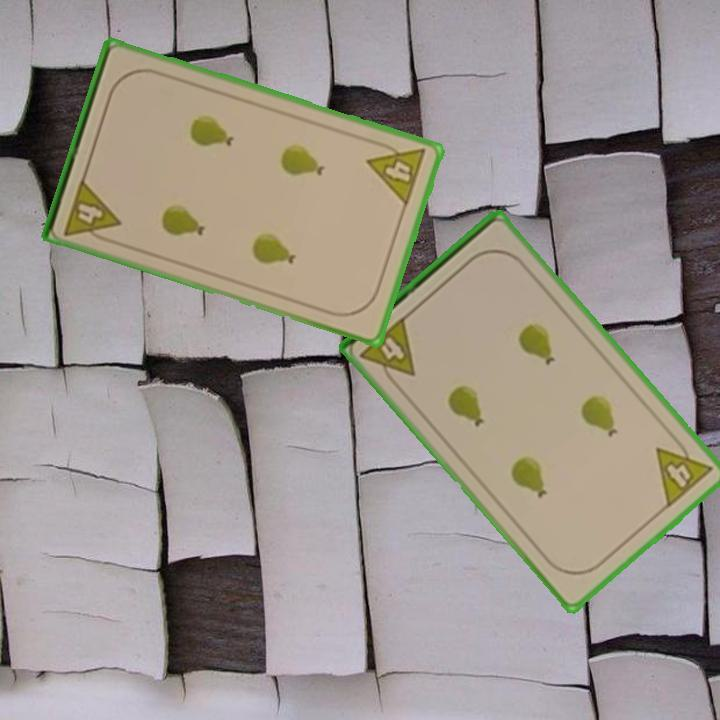4p: (652, 430, 716, 511), (357, 312, 419, 391), (363, 136, 429, 209), (60, 175, 123, 246)
